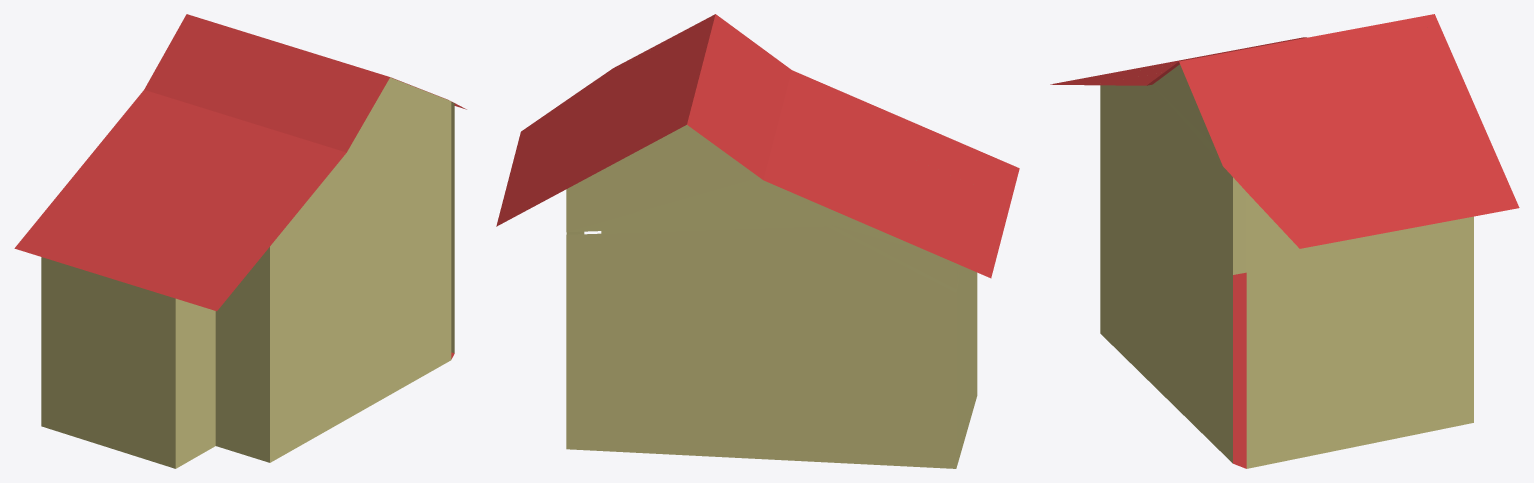
3 views of the same model, side by side, from view 1: azimuth 30°, elevation 25°; view 2: azimuth 150°, elevation 25°; view 3: azimuth 270°, elevation 25° (orthographic). The views are drawn at different scales.
Bounding box in the file's own units: 18.69 × 15.25 × 12.72.
